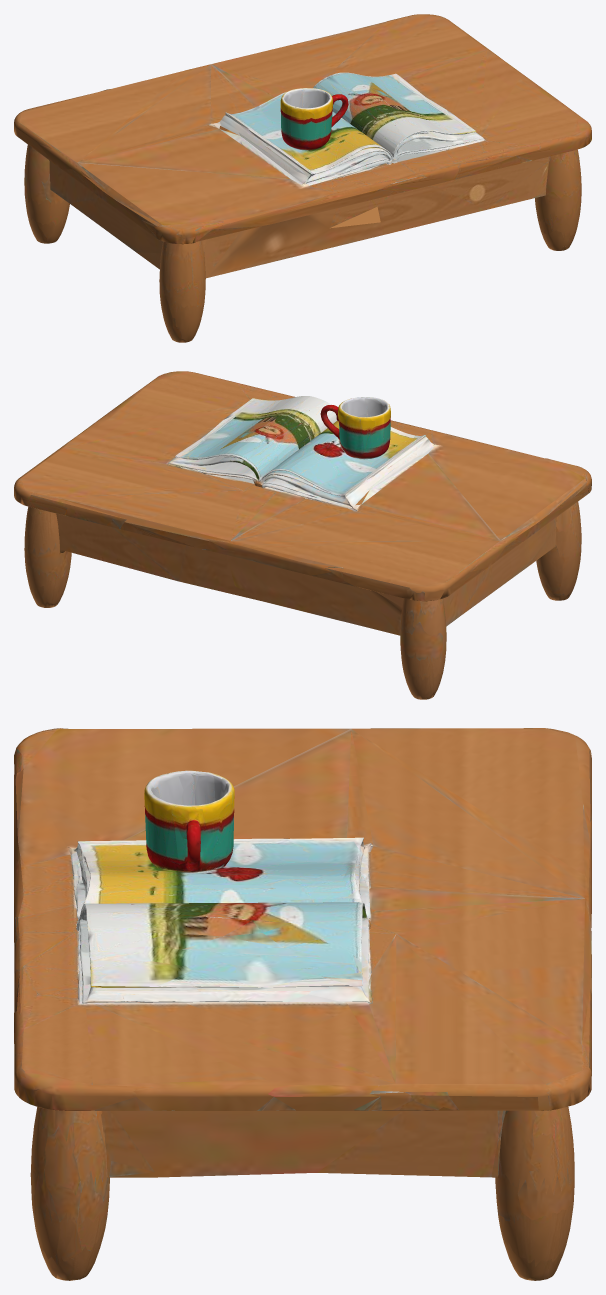
File: coffee-table.glb
3 renders of one model, top to bottom at view 1: azimuth 30°, elevation 25°; view 2: azimuth 150°, elevation 25°; view 3: azimuth 270°, elevation 25°, orthographic. The views are drawn at different scales.
Size of the model in its own units: 1.9 by 0.7396 by 1.28.
1 material, 1 textured.
